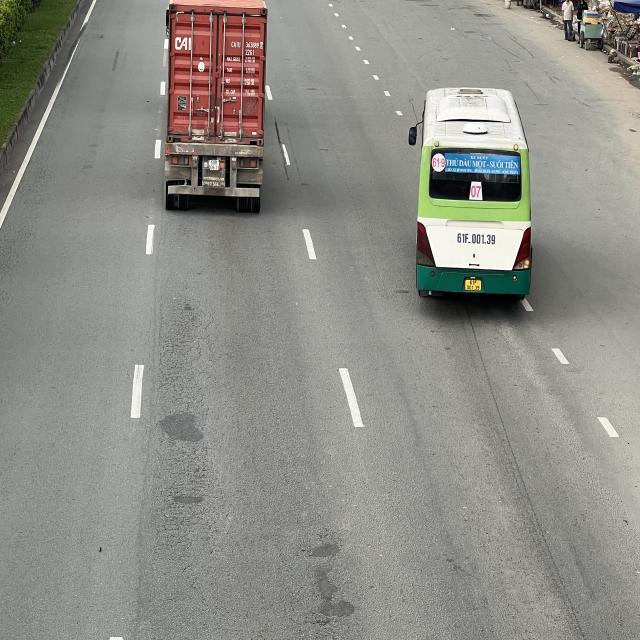coach: (411, 85, 534, 301)
container: (163, 2, 268, 221)
